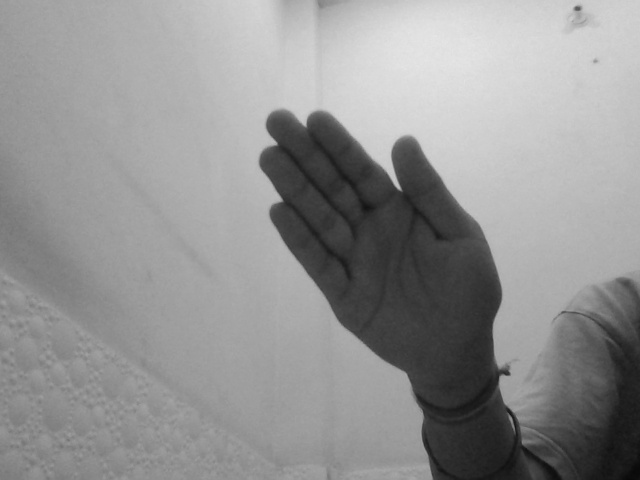Hello: (254, 105, 507, 395)
